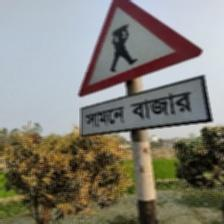Market-in-front: (77, 0, 212, 137)
